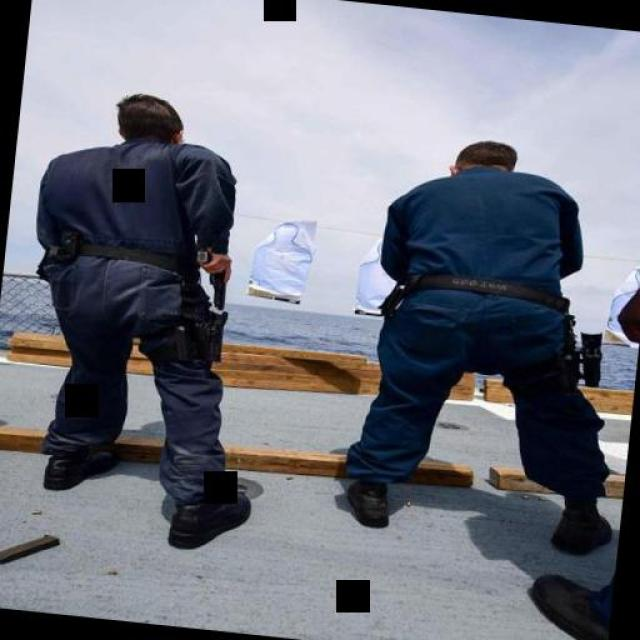gun: (180, 242, 238, 316)
